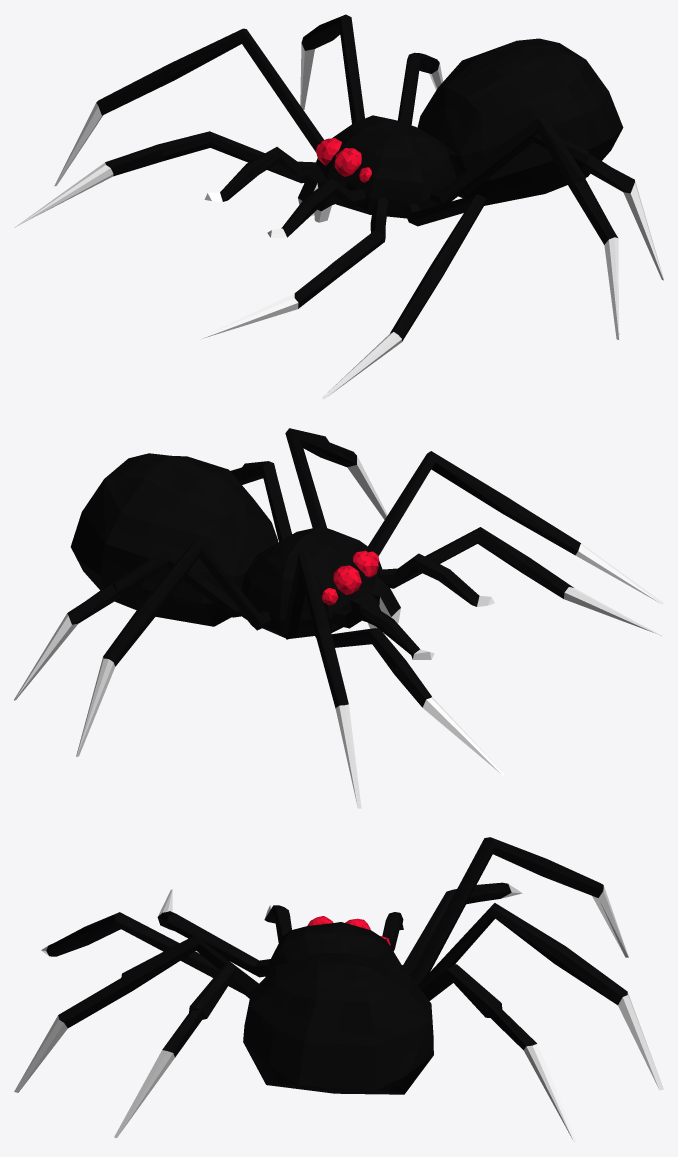
Rendered from spiderAttack5.obj.
3 views of the same model, one above another, from view 1: azimuth 30°, elevation 25°; view 2: azimuth 150°, elevation 25°; view 3: azimuth 270°, elevation 25° (orthographic). The views are drawn at different scales.
Visible parts, largest first — view 1: Cube.004_Cube.005; view 2: Cube.004_Cube.005; view 3: Cube.004_Cube.005.
Boxes of the visible parts, x1,y1,x2,y2 form: Cube.004_Cube.005: (14,14,663,399); Cube.004_Cube.005: (14,428,663,808); Cube.004_Cube.005: (14,837,663,1142).
Size of the model in its own units: 31.84 by 10.76 by 34.73.
